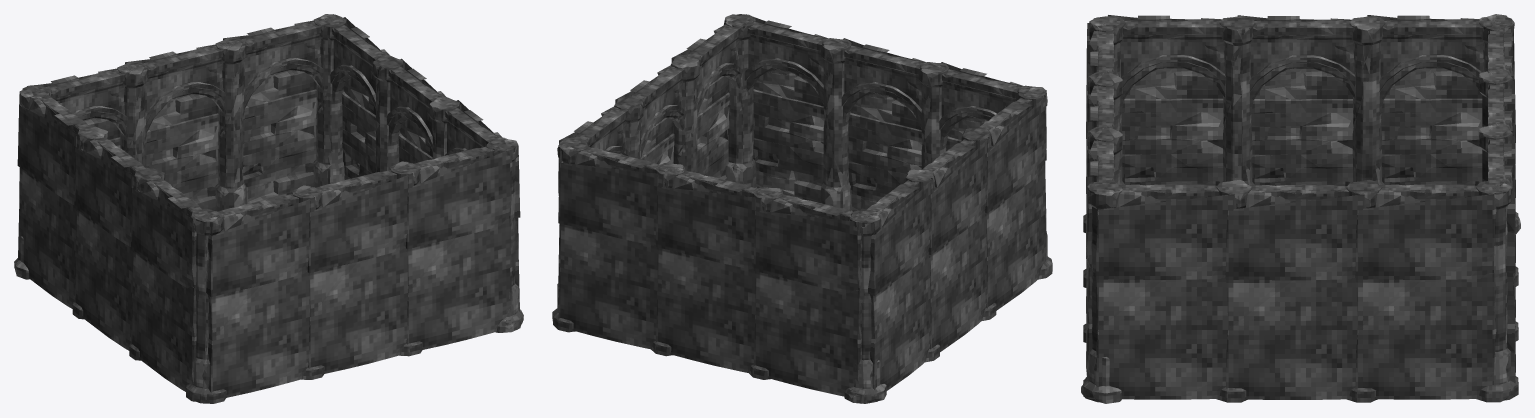
File: room.gltf
The picture shows the model from 3 angles, left to right: view 1: azimuth 30°, elevation 25°; view 2: azimuth 150°, elevation 25°; view 3: azimuth 270°, elevation 25°; orthographic projection. The views are drawn at different scales.
Parts seen in each view (by area): view 1: SM_Env_Pillar_Round_01.007, SM_Env_Pillar_Round_01.009, SM_Env_Pillar_Round_01.008, SM_Env_Pillar_Round_01.003, SM_Env_Pillar_Round_01.004, SM_Env_Pillar_Round_01.002, SM_Env_Pillar_Round_01.006, SM_Env_Pillar_Round_01.005, SM_Env_Pillar_Round_01.010, SM_Env_Pillar_Round_01.001, SM_Env_Pillar_Round_01.011, SM_Env_Pillar_Round_01.012; view 2: SM_Env_Pillar_Round_01.001, SM_Env_Pillar_Round_01.003, SM_Env_Pillar_Round_01.002, SM_Env_Pillar_Round_01.007, SM_Env_Pillar_Round_01.008, SM_Env_Pillar_Round_01.006, SM_Env_Pillar_Round_01.004, SM_Env_Pillar_Round_01.005, SM_Env_Pillar_Round_01.012, SM_Env_Pillar_Round_01.009, SM_Env_Pillar_Round_01.011, SM_Env_Pillar_Round_01.010; view 3: SM_Env_Pillar_Round_01.010, SM_Env_Pillar_Round_01.012, SM_Env_Pillar_Round_01.011, SM_Env_Pillar_Round_01.004, SM_Env_Pillar_Round_01.006, SM_Env_Pillar_Round_01.005, SM_Env_Pillar_Round_01.007, SM_Env_Pillar_Round_01.003, SM_Env_Pillar_Round_01.008, SM_Env_Pillar_Round_01.002, SM_Env_Pillar_Round_01.009, SM_Env_Pillar_Round_01.001.
Boxes of the visible parts, x1,y1,x2,y2 form: SM_Env_Pillar_Round_01.007: (390, 137, 523, 355); SM_Env_Pillar_Round_01.009: (194, 185, 321, 403); SM_Env_Pillar_Round_01.008: (292, 161, 419, 379); SM_Env_Pillar_Round_01.003: (216, 14, 343, 207); SM_Env_Pillar_Round_01.004: (129, 167, 217, 401); SM_Env_Pillar_Round_01.002: (118, 38, 245, 211); SM_Env_Pillar_Round_01.006: (17, 85, 107, 313); SM_Env_Pillar_Round_01.005: (73, 132, 145, 360); SM_Env_Pillar_Round_01.010: (320, 14, 404, 184); SM_Env_Pillar_Round_01.001: (14, 62, 147, 279); SM_Env_Pillar_Round_01.011: (374, 58, 461, 171); SM_Env_Pillar_Round_01.012: (430, 97, 520, 332); SM_Env_Pillar_Round_01.001: (753, 187, 886, 403); SM_Env_Pillar_Round_01.003: (553, 140, 683, 353); SM_Env_Pillar_Round_01.002: (655, 163, 781, 377); SM_Env_Pillar_Round_01.007: (724, 14, 849, 203); SM_Env_Pillar_Round_01.008: (824, 38, 946, 211); SM_Env_Pillar_Round_01.006: (844, 169, 939, 403); SM_Env_Pillar_Round_01.004: (962, 87, 1052, 318); SM_Env_Pillar_Round_01.005: (921, 132, 995, 361); SM_Env_Pillar_Round_01.012: (671, 14, 757, 188); SM_Env_Pillar_Round_01.009: (922, 62, 1051, 260); SM_Env_Pillar_Round_01.011: (615, 64, 699, 171); SM_Env_Pillar_Round_01.010: (552, 96, 643, 323); SM_Env_Pillar_Round_01.010: (1347, 180, 1514, 402); SM_Env_Pillar_Round_01.012: (1081, 179, 1251, 402); SM_Env_Pillar_Round_01.011: (1216, 181, 1377, 402); SM_Env_Pillar_Round_01.004: (1091, 15, 1254, 185); SM_Env_Pillar_Round_01.006: (1350, 15, 1520, 233); SM_Env_Pillar_Round_01.005: (1224, 15, 1372, 185); SM_Env_Pillar_Round_01.007: (1083, 126, 1122, 403); SM_Env_Pillar_Round_01.003: (1479, 123, 1518, 400); SM_Env_Pillar_Round_01.008: (1083, 71, 1122, 325); SM_Env_Pillar_Round_01.002: (1479, 69, 1518, 328); SM_Env_Pillar_Round_01.009: (1083, 16, 1122, 269); SM_Env_Pillar_Round_01.001: (1479, 14, 1518, 273).
Size of the model in its own units: 16.21 by 8.36 by 16.12.
2 materials, 2 textured.
